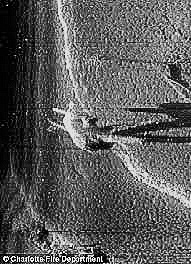plane: (46, 105, 105, 150)
